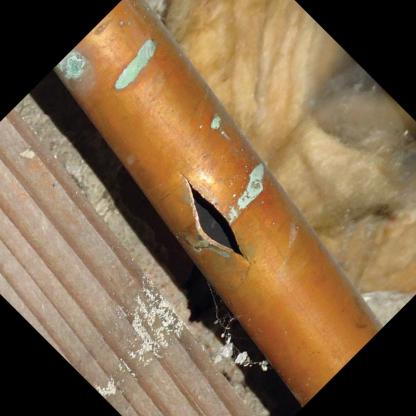burst: (188, 167, 251, 270)
